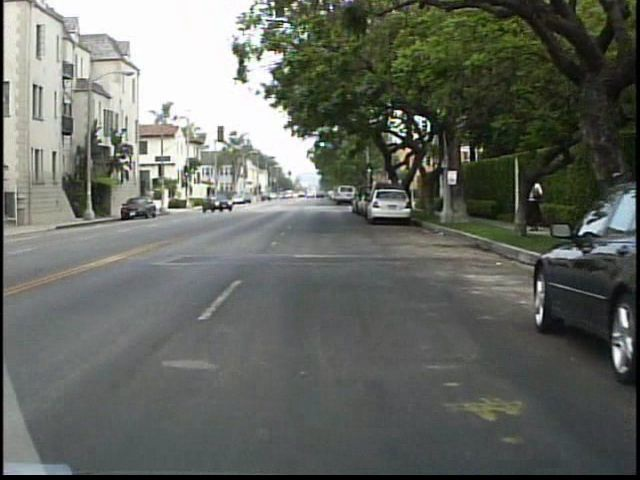person: (516, 171, 546, 238)
